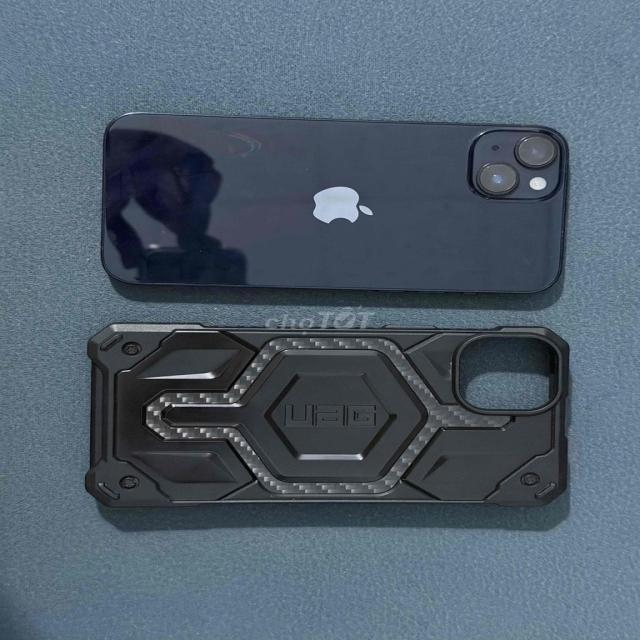scratch: (222, 126, 273, 158)
